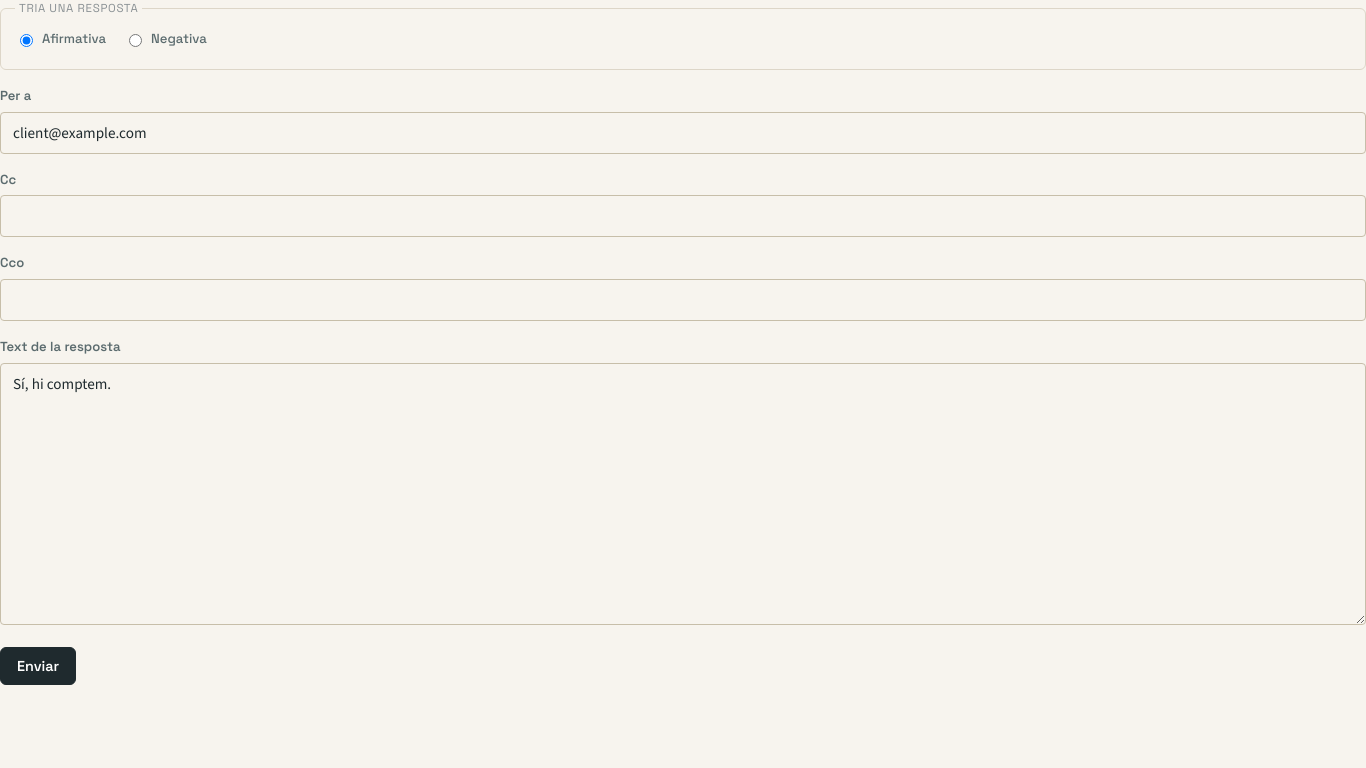
it: DraftOptionsForm › does not send on the click: it opens a countdown of 7 seconds instead
This screenshot has width=1366, height=768.
Click the button "Enviar". click: [38, 666]
box: top-left (0, 647), bottom-right (76, 685)
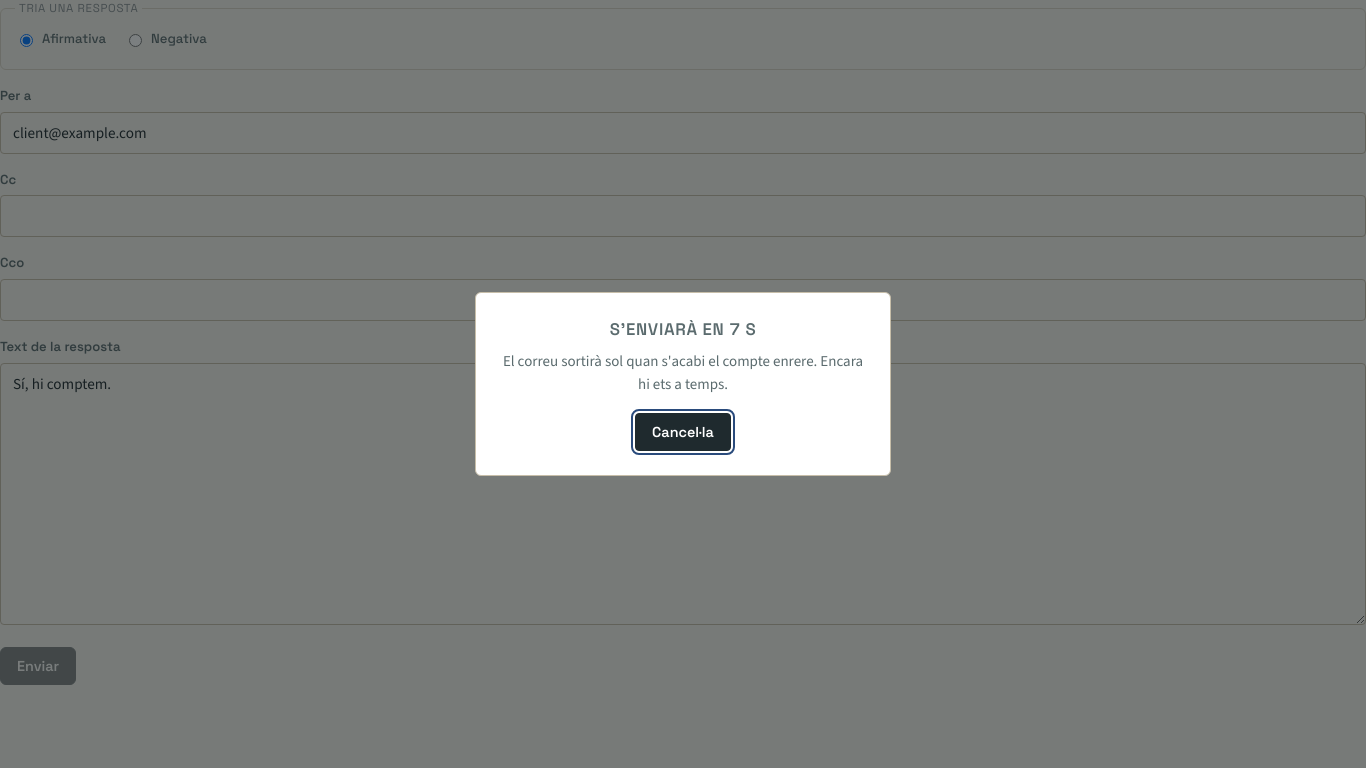
Now the dialog shows "7", box top-left (729, 318), bottom-right (740, 340)
